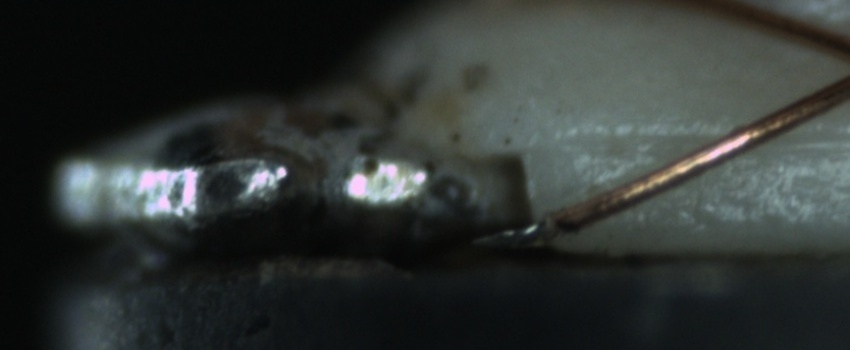DL: (568, 105, 849, 172)
